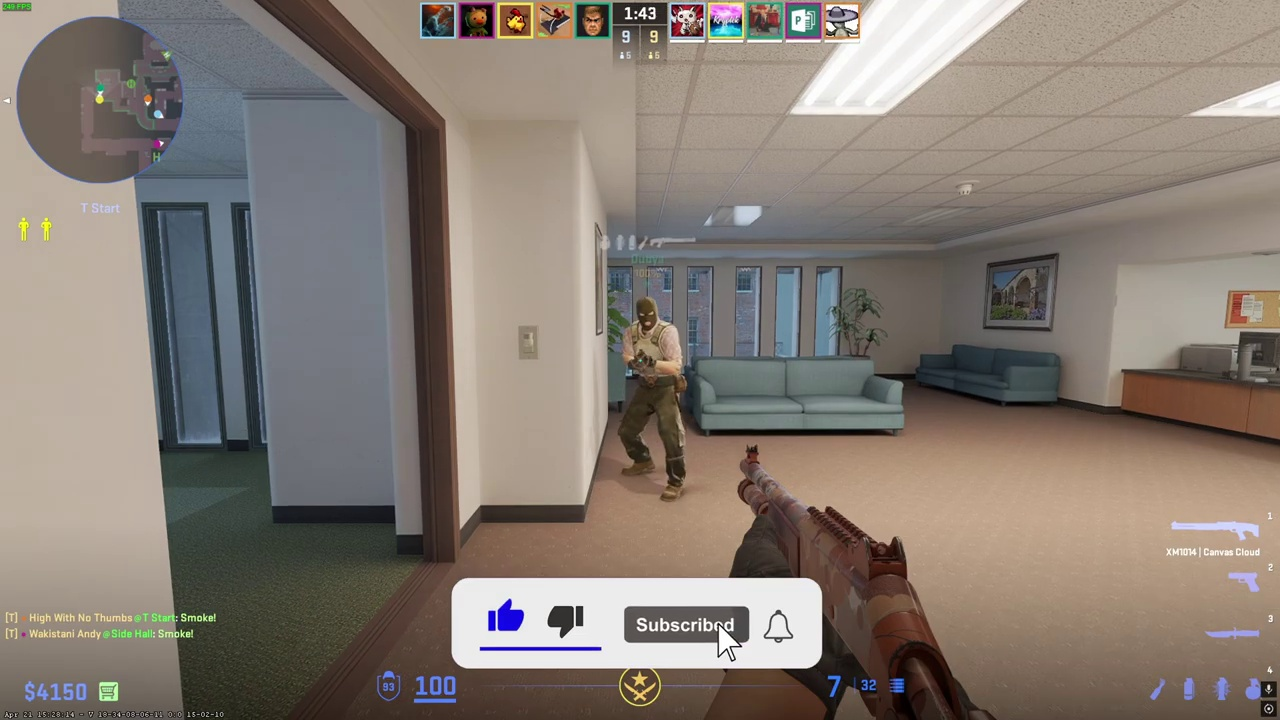Terrorist: (617, 296, 688, 499)
